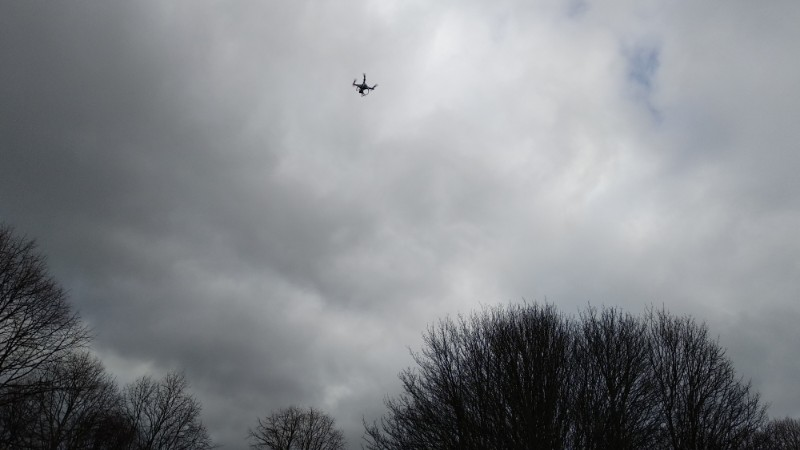drone: (351, 74, 379, 96)
